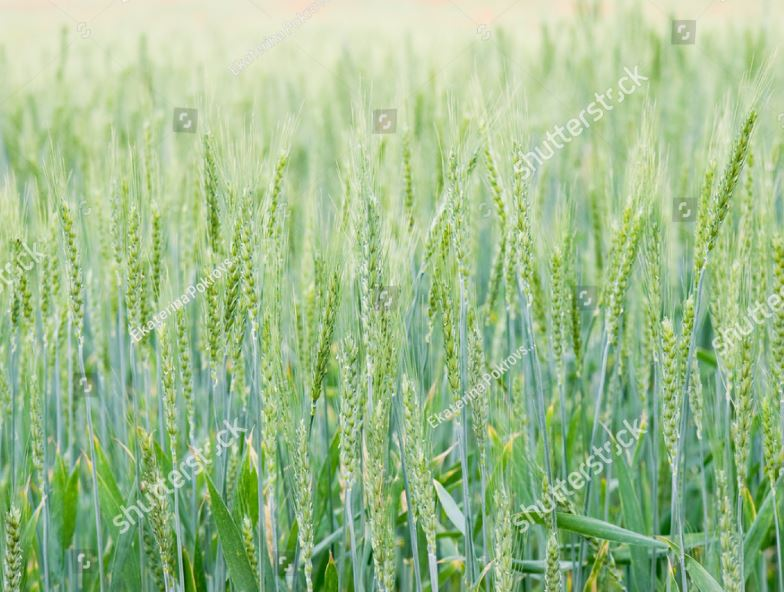Wheat: (235, 164, 755, 379)
